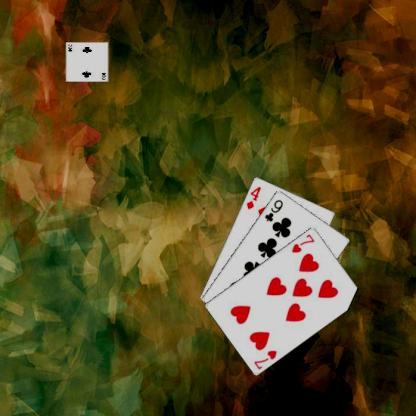4D: (244, 184, 262, 210)
7H: (289, 231, 316, 254), (251, 348, 278, 370)
9C: (262, 197, 284, 223)
